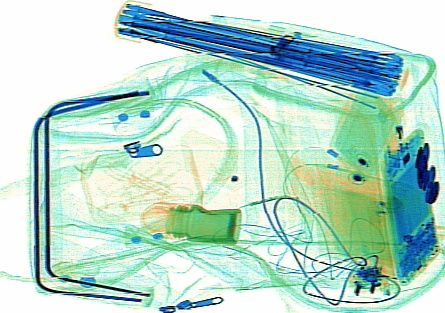lighter: (379, 95, 410, 168)
